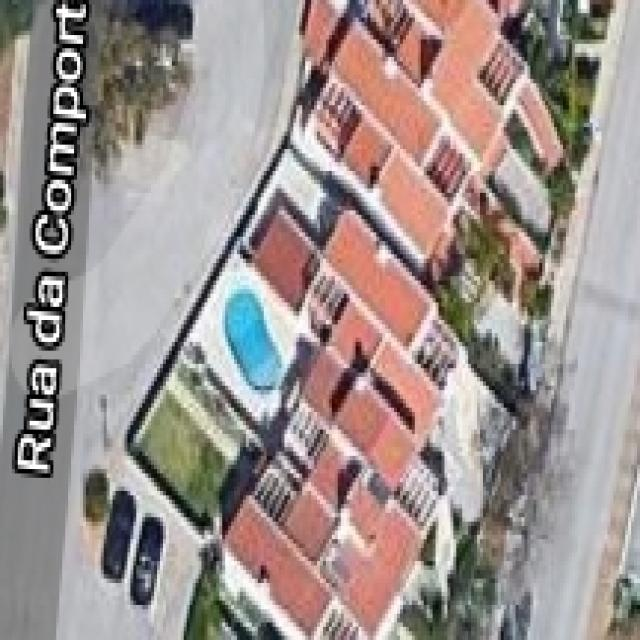pool: (218, 280, 288, 403)
